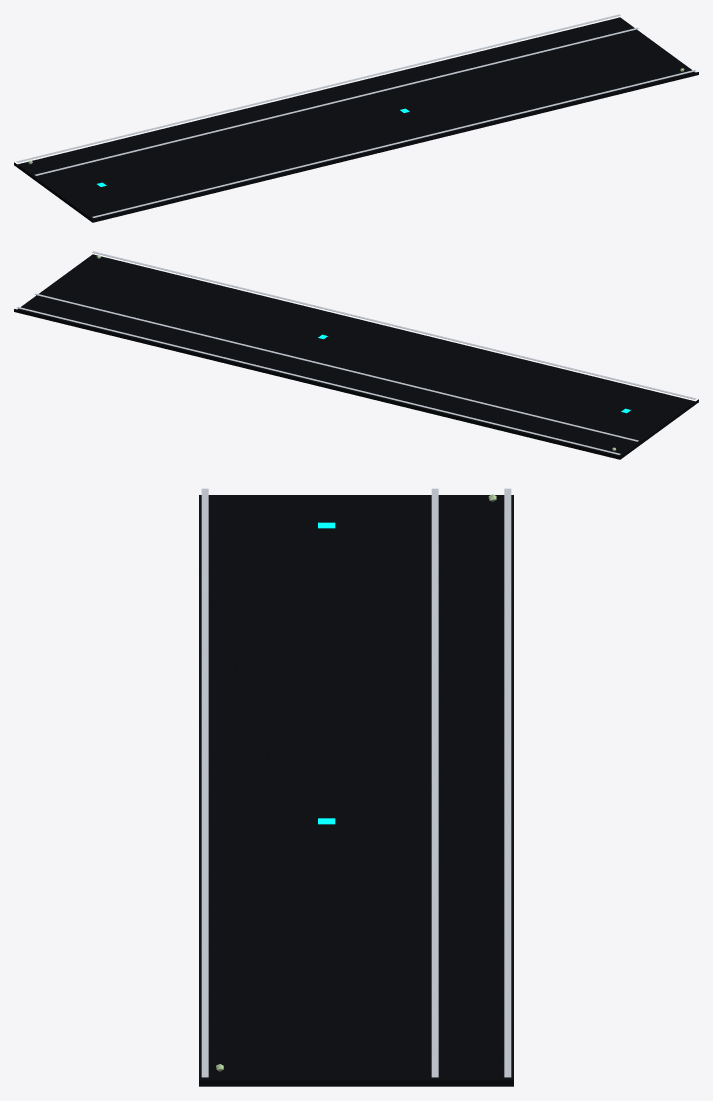
Rendered from tt_trk_straight.glb.
The picture shows the model from 3 angles, top to bottom: view 1: azimuth 30°, elevation 25°; view 2: azimuth 150°, elevation 25°; view 3: azimuth 270°, elevation 25°; orthographic projection. The views are drawn at different scales.
Parts seen in each view (by area): view 1: Track_Bed, Lane_Paint; view 2: Track_Bed, Lane_Paint; view 3: Track_Bed, Lane_Paint.
Boxes of the visible parts, box(x1,y1,x2,y2) form: Track_Bed: box(14, 17, 698, 222); Lane_Paint: box(16, 14, 696, 217); Track_Bed: box(14, 254, 698, 459); Lane_Paint: box(16, 251, 696, 454); Track_Bed: box(199, 495, 513, 1086); Lane_Paint: box(201, 488, 511, 1077).
Size of what is drawn, in the model's own units: 8 by 0.069 by 1.8.
4 materials, 2 textured.
